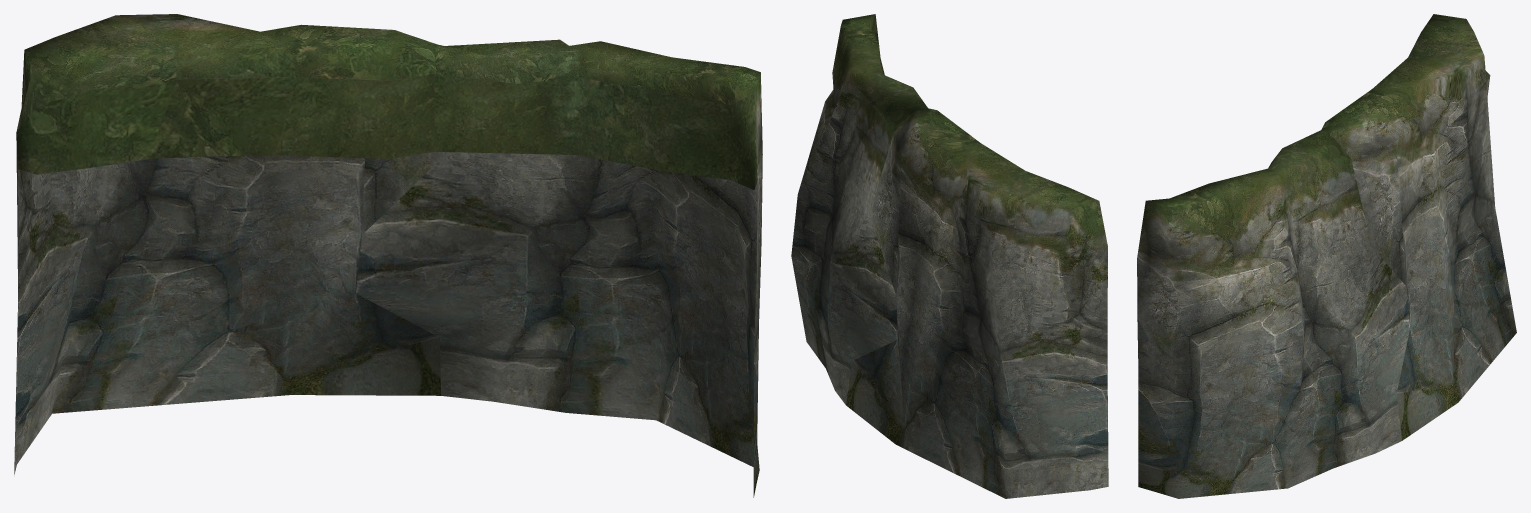
Rendered from THL1_6.fbx.
3 renders of one model, left to right at view 1: azimuth 30°, elevation 25°; view 2: azimuth 150°, elevation 25°; view 3: azimuth 270°, elevation 25°, orthographic. The views are drawn at different scales.
Visible parts, largest first — view 1: taohualin:_Combined_Mesh_root_scene__Mesh_polySurface2475; view 2: taohualin:_Combined_Mesh_root_scene__Mesh_polySurface2475; view 3: taohualin:_Combined_Mesh_root_scene__Mesh_polySurface2475.
Boxes of the visible parts, box(x1,y1,x2,y2) form: taohualin:_Combined_Mesh_root_scene__Mesh_polySurface2475: box(14, 14, 762, 497); taohualin:_Combined_Mesh_root_scene__Mesh_polySurface2475: box(791, 14, 1108, 498); taohualin:_Combined_Mesh_root_scene__Mesh_polySurface2475: box(1137, 14, 1516, 498).
Bounding box in the file's own units: 13.6 × 9.2 × 10.86.
